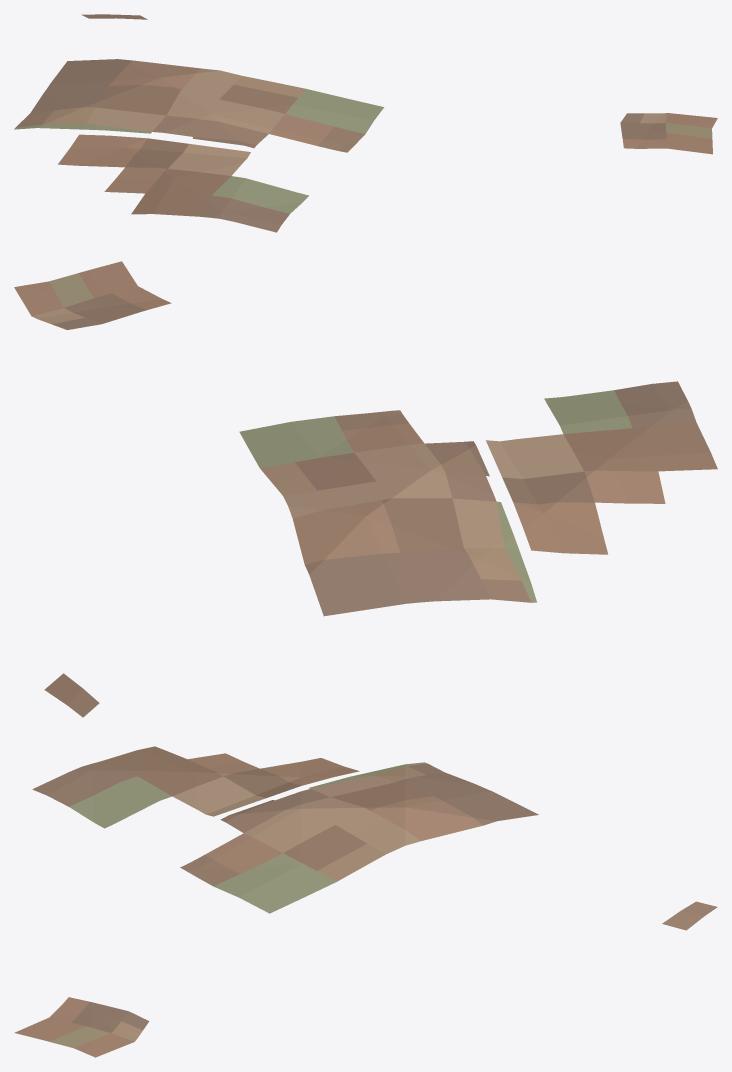
Rendered from farm_-2_-3_soil.glb.
The picture shows the model from 3 angles, top to bottom: view 1: azimuth 30°, elevation 25°; view 2: azimuth 150°, elevation 25°; view 3: azimuth 270°, elevation 25°; orthographic projection. The views are drawn at different scales.
Visible parts, largest first — view 1: geometry_0; view 2: geometry_0; view 3: geometry_0.
Boxes of the visible parts, x1,y1,x2,y2 form: geometry_0: (14,14,717,232); geometry_0: (14,261,717,717); geometry_0: (14,746,717,1057).
Bounding box in the file's own units: 528 × 55.61 × 541.
